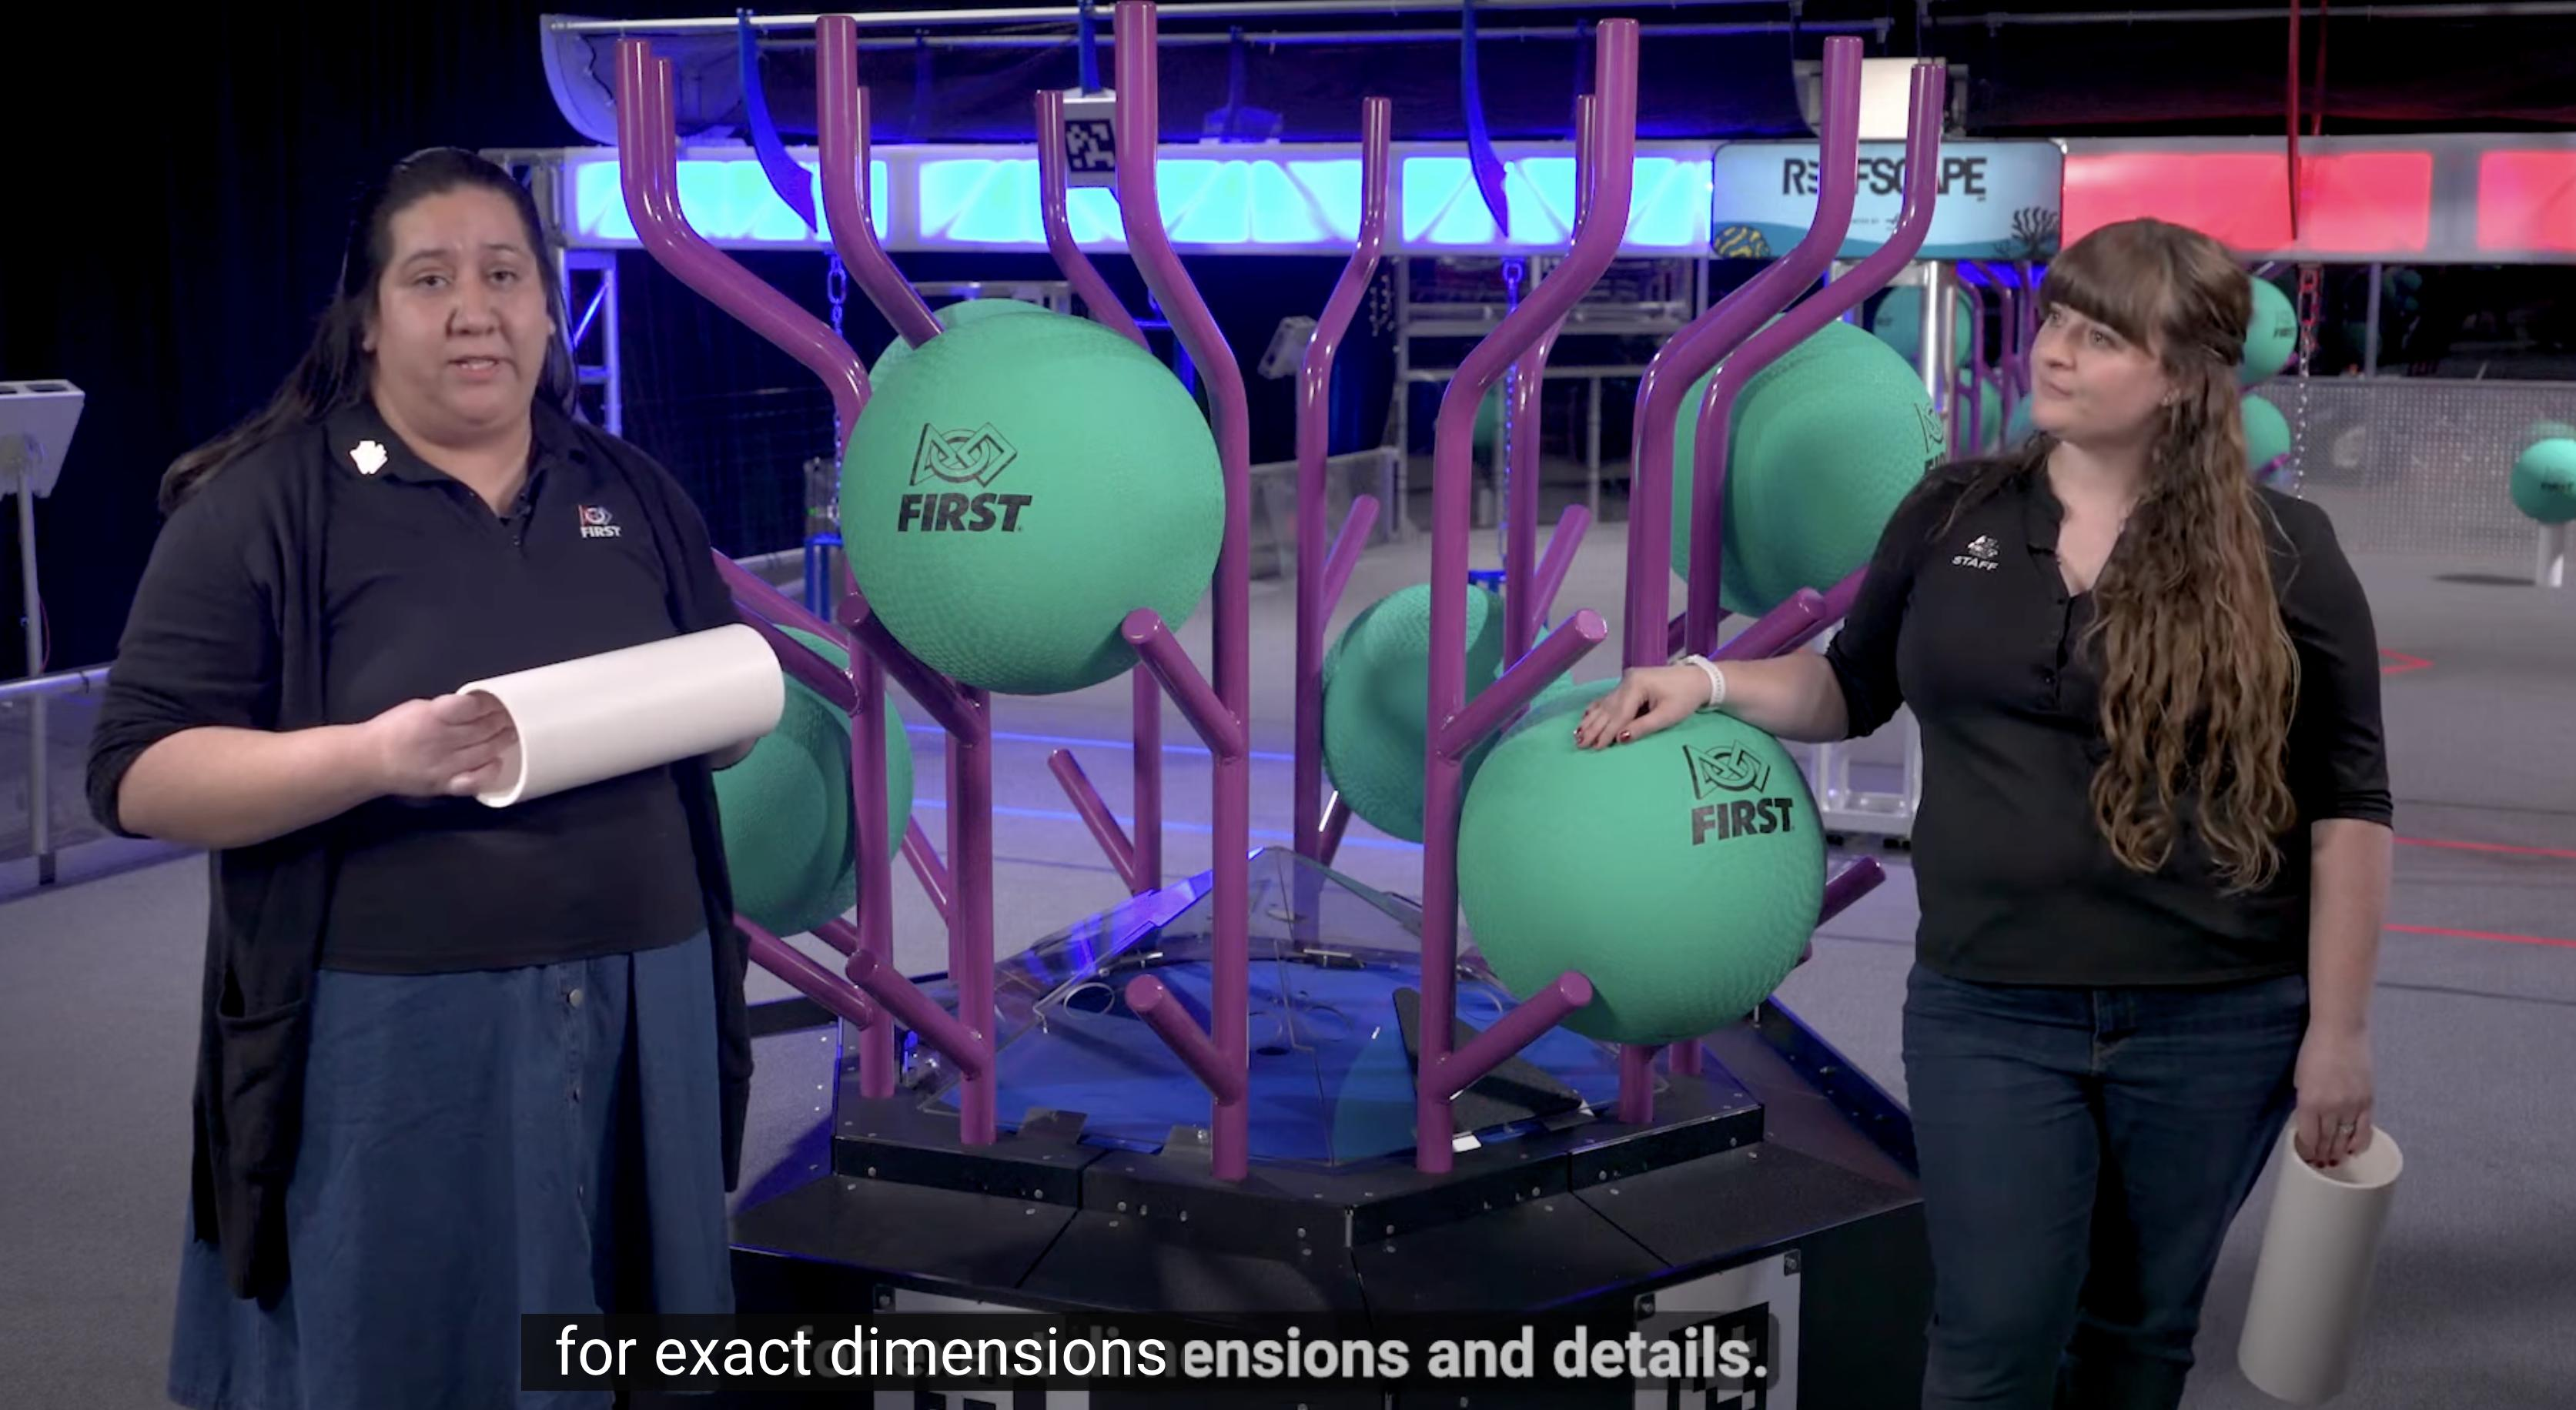ALGAE: (836, 297, 1226, 696), (1454, 677, 1829, 1047), (599, 616, 915, 946), (1664, 311, 1947, 620), (1305, 575, 1581, 849), (1871, 280, 1977, 380), (2505, 436, 2576, 526)
